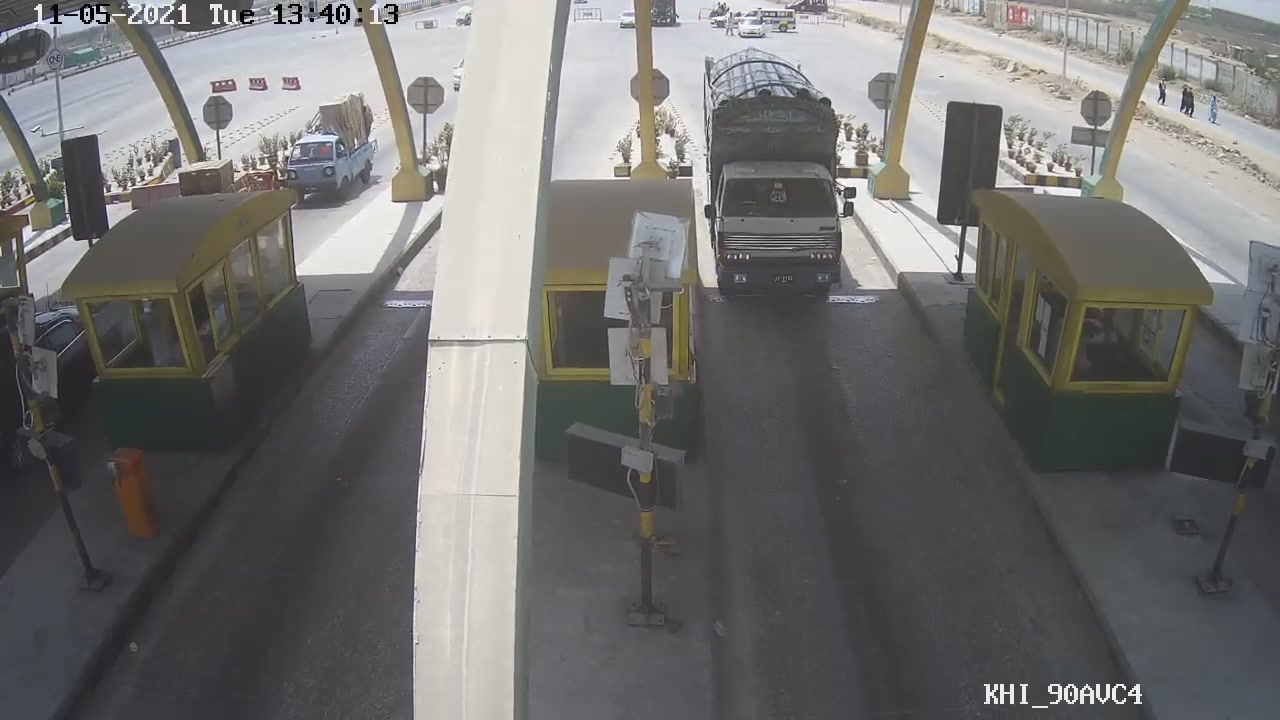F5: (696, 49, 867, 312)
